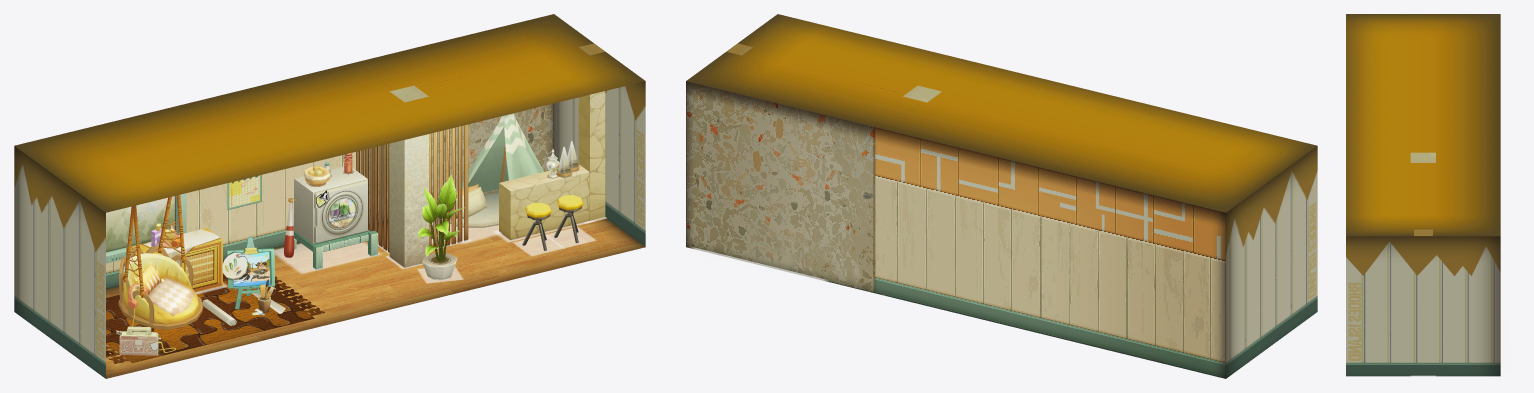
Rendered from activity.glb.
3 views of the same model, side by side, from view 1: azimuth 30°, elevation 25°; view 2: azimuth 150°, elevation 25°; view 3: azimuth 270°, elevation 25° (orthographic). The views are drawn at different scales.
Visible parts, largest first — view 1: ROOM_room, ROOM_floor, furni_activity_carpet_01, furni_activity_refrigerator_01, furni_activity_column_01, furni_activity_lowPartition_01, furni_activity_tent_01, furni_activity_halfColumn_01, furni_activity_fence_S_01, furni_activity_showcase_01, furni_activity_fence_V_01, furni_activity_hangingChair_02 (+22 smaller); view 2: ROOM_room, ROOM_LDoor, shadow.008; view 3: ROOM_room, ROOM_RDoor, shadow.008, furni_activity_column_01.
Boxes of the visible parts, x1=… form: ROOM_room: x1=14, y1=14, x2=645, y2=378; ROOM_floor: x1=106, y1=218, x2=645, y2=378; furni_activity_carpet_01: x1=106, y1=273, x2=324, y2=363; furni_activity_refrigerator_01: x1=293, y1=166, x2=377, y2=270; furni_activity_column_01: x1=389, y1=85, x2=428, y2=268; furni_activity_lowPartition_01: x1=499, y1=165, x2=589, y2=240; furni_activity_tent_01: x1=462, y1=113, x2=543, y2=192; furni_activity_halfColumn_01: x1=578, y1=43, x2=605, y2=220; furni_activity_fence_S_01: x1=421, y1=75, x2=468, y2=248; furni_activity_showcase_01: x1=106, y1=193, x2=186, y2=263; furni_activity_fence_V_01: x1=356, y1=64, x2=389, y2=252; furni_activity_hangingChair_02: x1=123, y1=253, x2=199, y2=324; ROOM_room: x1=686, y1=14, x2=1317, y2=378; ROOM_LDoor: x1=1285, y1=246, x2=1303, y2=335; shadow.008: x1=686, y1=247, x2=827, y2=282; ROOM_room: x1=1346, y1=14, x2=1500, y2=376; ROOM_RDoor: x1=1369, y1=312, x2=1400, y2=376; shadow.008: x1=1500, y1=316, x2=1514, y2=372; furni_activity_column_01: x1=1410, y1=152, x2=1435, y2=162.
Size of the model in its own units: 7.59 by 2.21 by 2.47.
8 materials, 8 textured.
